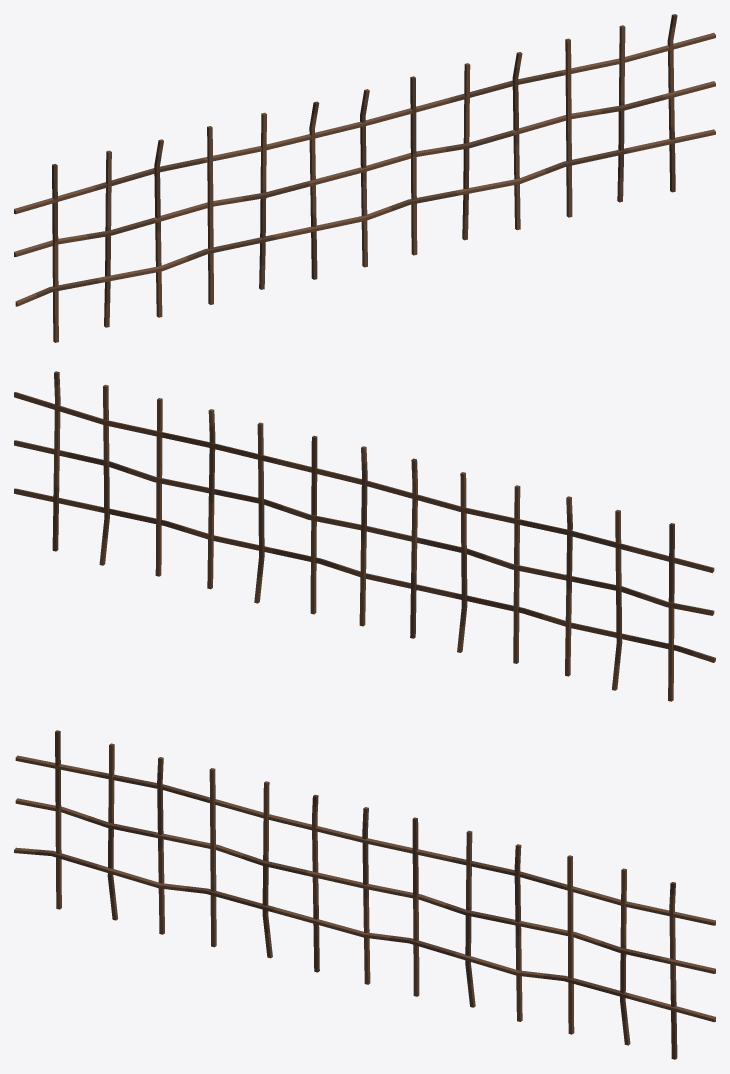
Rendered from SM_Bld_ConcreteRebar_Wall_04.fbx.
3 views of the same model, one above another, from view 1: azimuth 30°, elevation 25°; view 2: azimuth 150°, elevation 25°; view 3: azimuth 330°, elevation 25° (orthographic).
Visible parts, largest first — view 1: SM_Bld_ConcreteRebar_Wall_04; view 2: SM_Bld_ConcreteRebar_Wall_04; view 3: SM_Bld_ConcreteRebar_Wall_04.
Part boxes in pixels (x1=…): SM_Bld_ConcreteRebar_Wall_04: x1=14, y1=14, x2=715, y2=342; SM_Bld_ConcreteRebar_Wall_04: x1=14, y1=371, x2=715, y2=701; SM_Bld_ConcreteRebar_Wall_04: x1=14, y1=730, x2=715, y2=1059.
Bounding box in the file's own units: 480 × 116 × 8.95.
